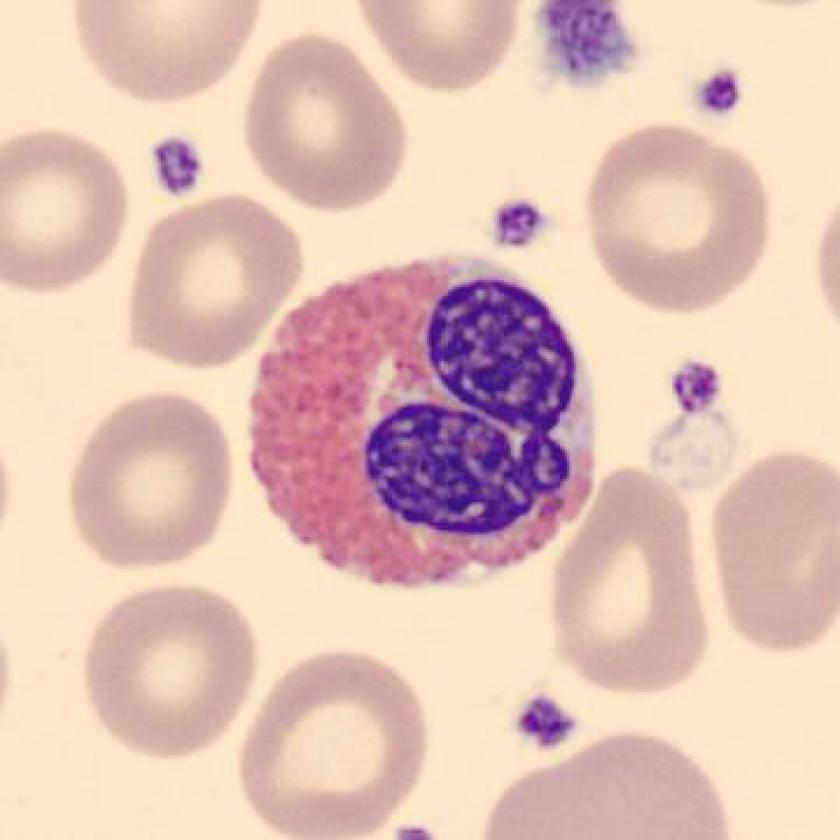eosinophil: (230, 235, 615, 612)
